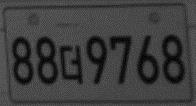6: (134, 33, 160, 85)
7: (108, 33, 134, 84)
8: (160, 34, 185, 85), (10, 36, 35, 85), (35, 36, 59, 85)
9: (84, 34, 109, 85)
더: (58, 43, 85, 86)
